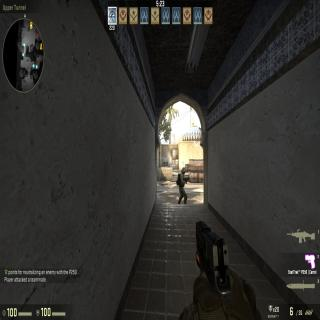CT-Body: (178, 166, 188, 204)
CT-Head: (181, 166, 186, 174)
